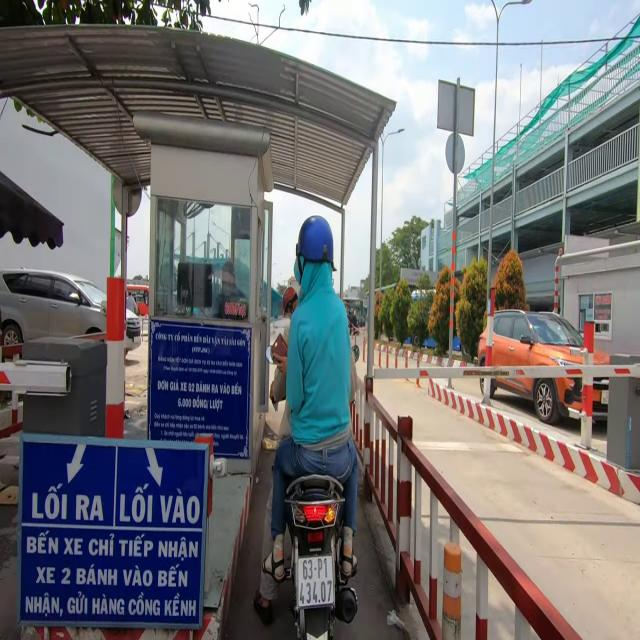bien_trang: (293, 556, 336, 608)
